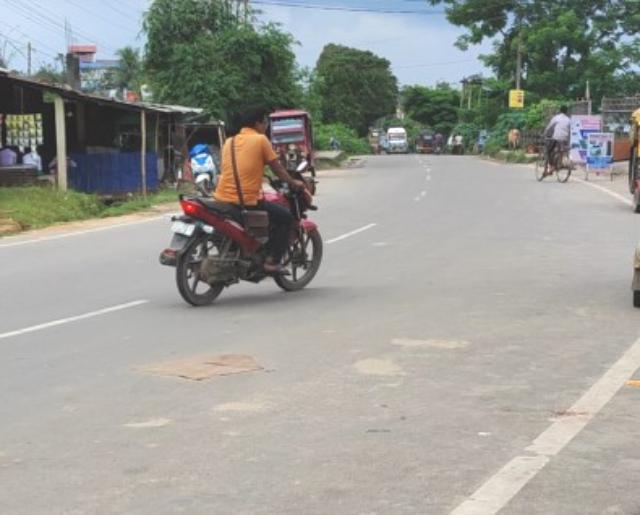licensePlate: (162, 221, 197, 239)
motorcycle: (157, 103, 324, 304)
withoutHelmet: (242, 103, 273, 133)
